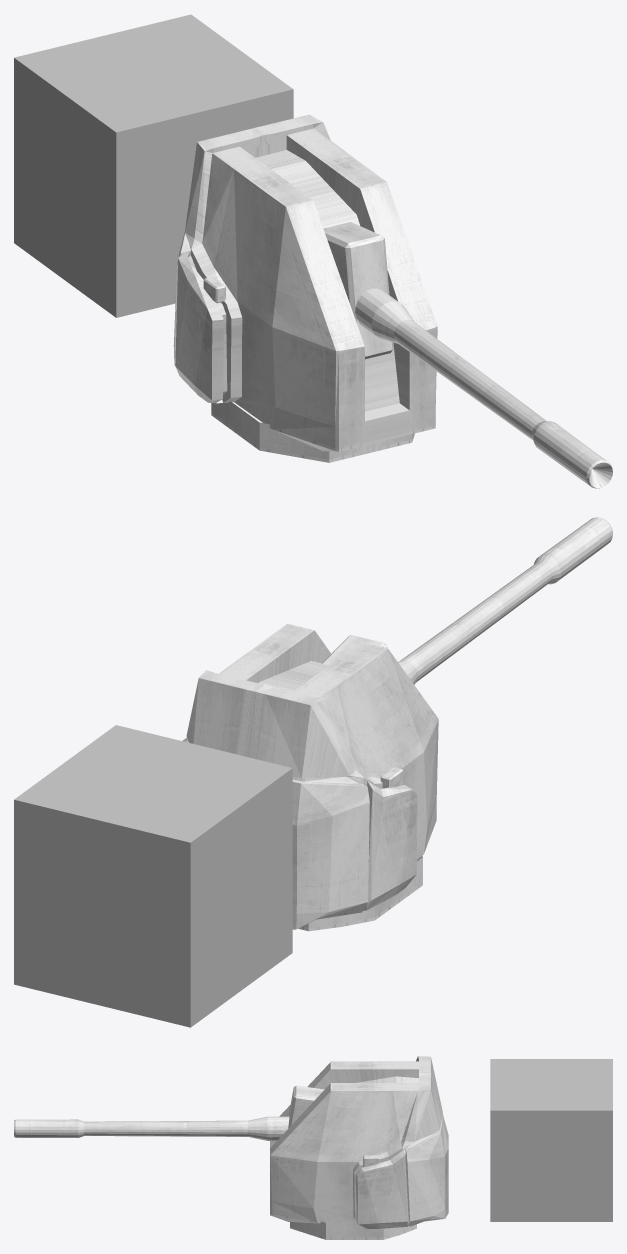
Rendered from turret.obj.
3 renders of one model, top to bottom at view 1: azimuth 30°, elevation 25°; view 2: azimuth 150°, elevation 25°; view 3: azimuth 270°, elevation 25°, orthographic. The views are drawn at different scales.
Parts seen in each view (by area): view 1: サラミス級宇宙戦艦 オリジン_mesh.001_サラミス級宇宙戦艦 オリジン.001, 立方体; view 2: 立方体, サラミス級宇宙戦艦 オリジン_mesh.001_サラミス級宇宙戦艦 オリジン.001; view 3: サラミス級宇宙戦艦 オリジン_mesh.001_サラミス級宇宙戦艦 オリジン.001, 立方体.
Boxes of the visible parts, left/top/right/bottom form: サラミス級宇宙戦艦 オリジン_mesh.001_サラミス級宇宙戦艦 オリジン.001: left=173, top=114, right=612, bottom=488; 立方体: left=14, top=14, right=293, bottom=317; 立方体: left=14, top=725, right=292, bottom=1027; サラミス級宇宙戦艦 オリジン_mesh.001_サラミス級宇宙戦艦 オリジン.001: left=182, top=517, right=612, bottom=931; サラミス級宇宙戦艦 オリジン_mesh.001_サラミス級宇宙戦艦 オリジン.001: left=14, top=1056, right=448, bottom=1239; 立方体: left=490, top=1059, right=612, bottom=1221.
Bounding box in the file's own units: 2.3 × 2.58 × 9.76.
